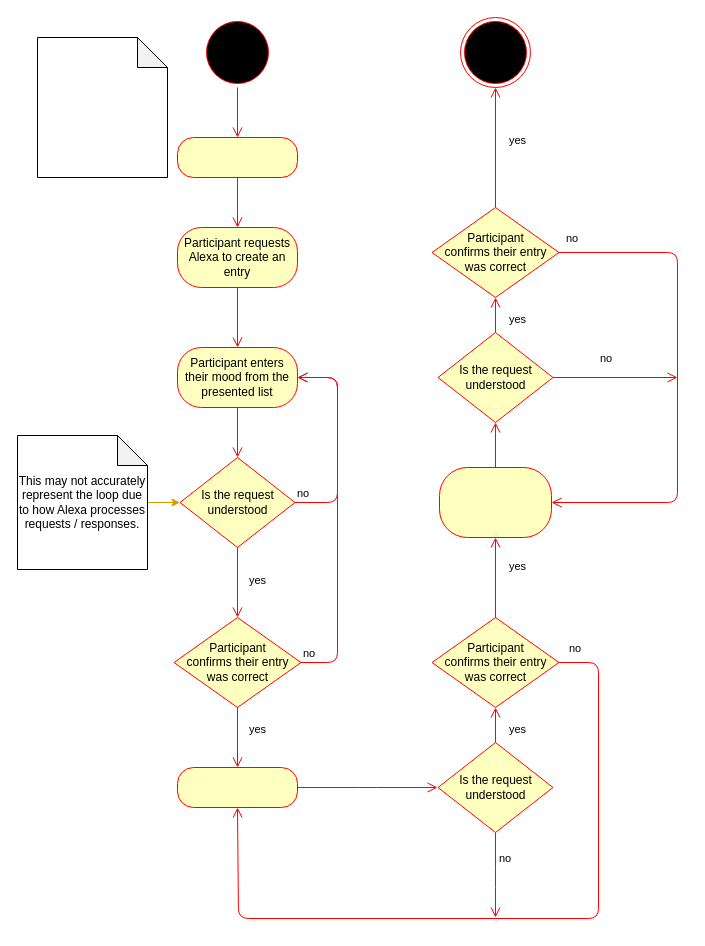
Image size: 705x946. Some labels were removed from this diagram. Here are the shapes that lost their labels. From the top down, the centre of each, then its label:
(x=102, y=107): Assuming the participant has already logged in and set up.
(x=237, y=157): Participant opens Alexa skill
(x=495, y=502): Participant enters an account of factors contributing to their mood
(x=237, y=787): Participant enters the rating for their mood
